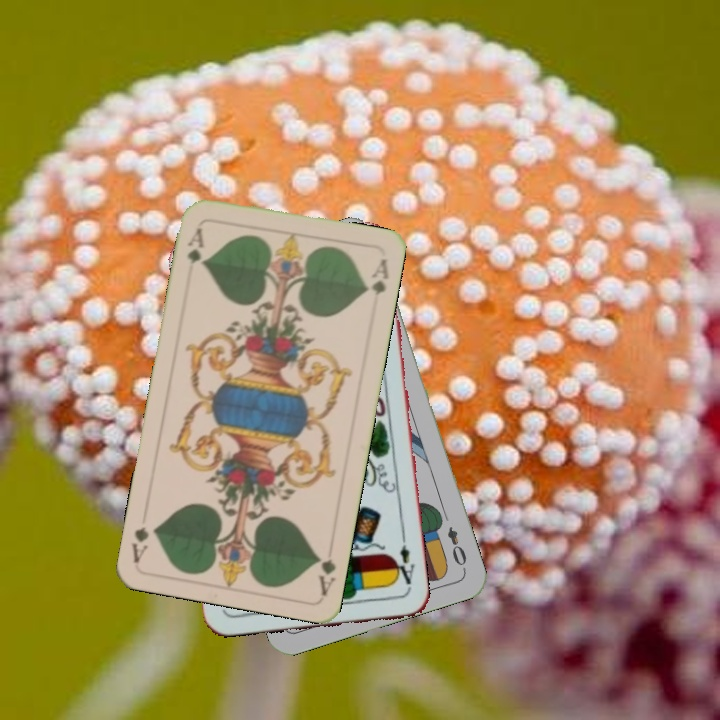EA: (390, 533, 417, 592)
EO: (443, 522, 469, 569)
GA: (313, 551, 338, 598), (183, 224, 207, 270)
